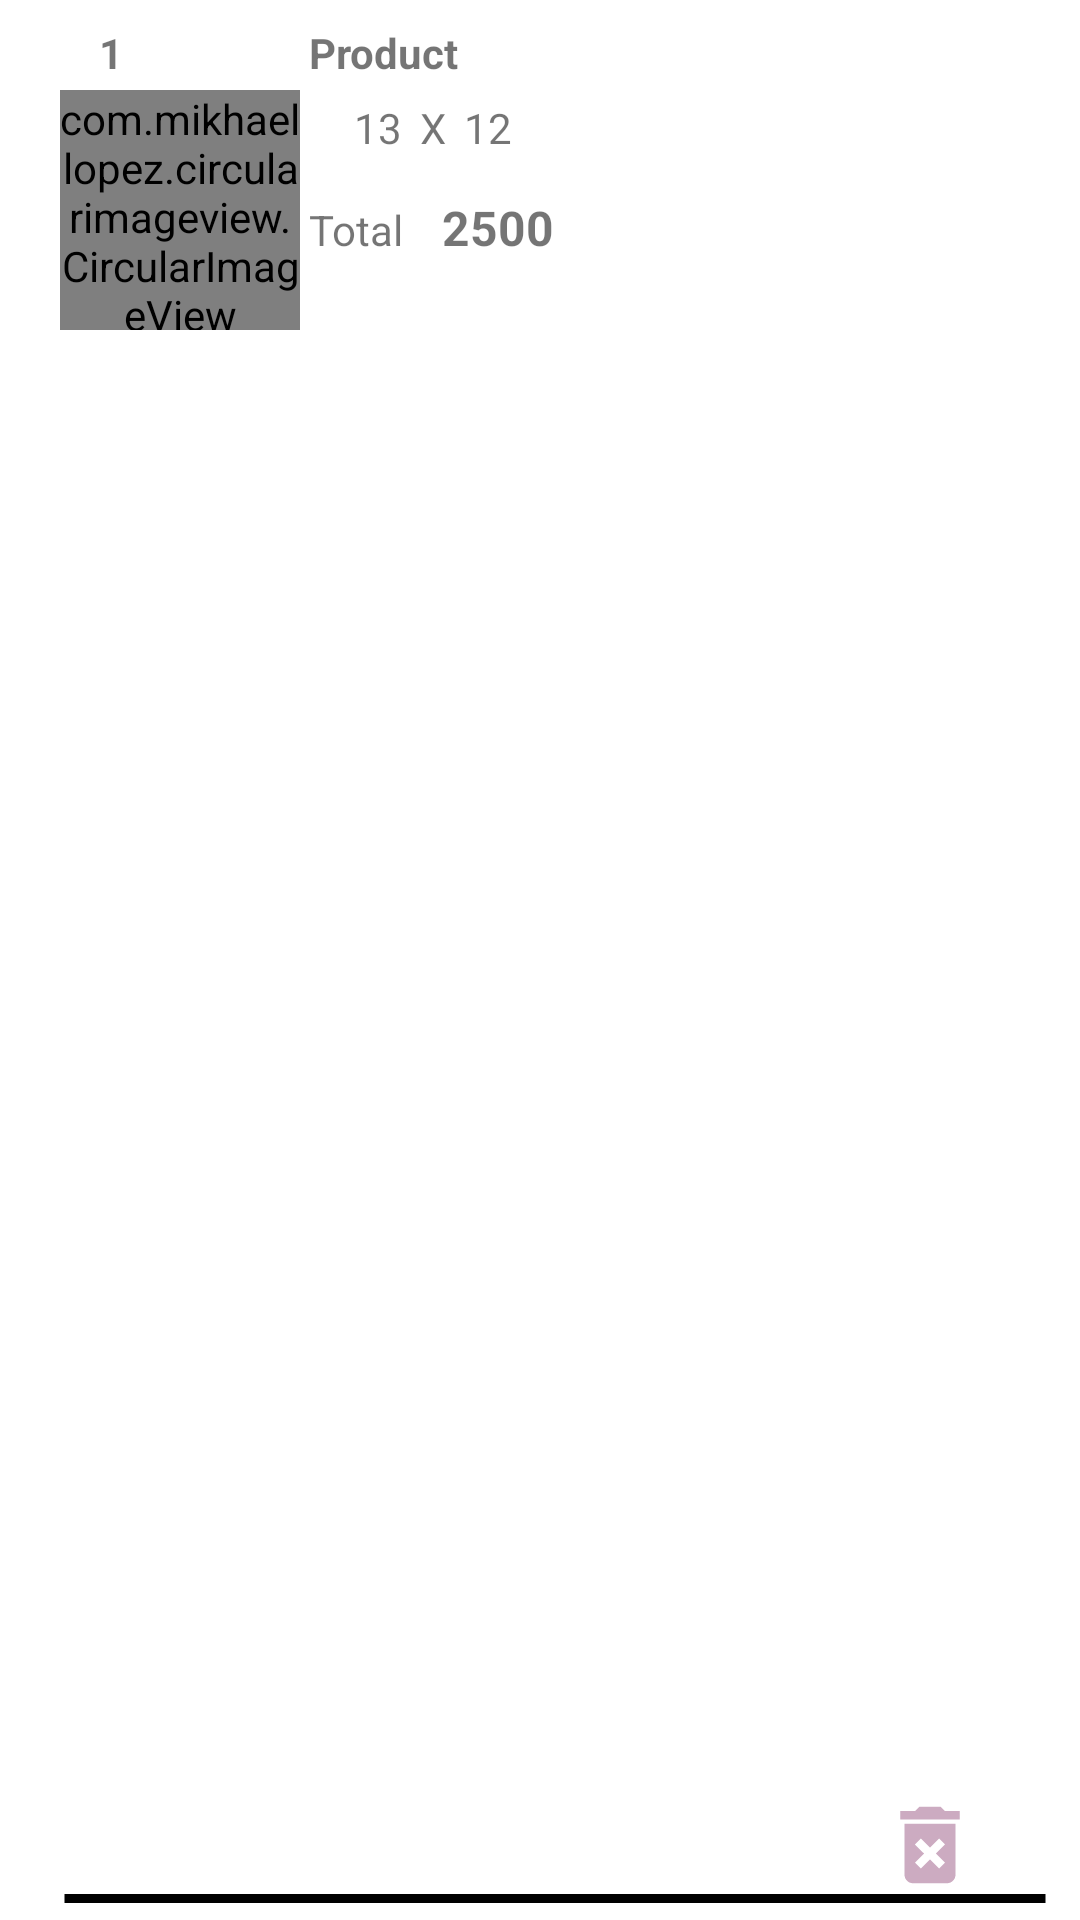

Screen size 1080px×1920px. Icon name, then its center in pixels as [x,y]:
delete forever: [930,1845]
